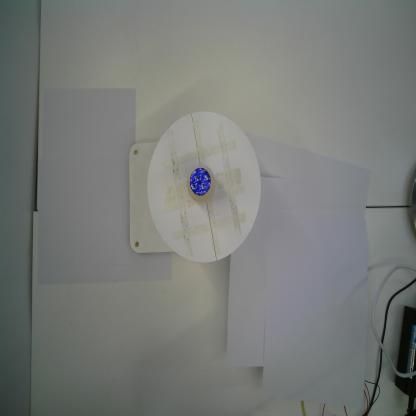Milk: (186, 163, 216, 204)
